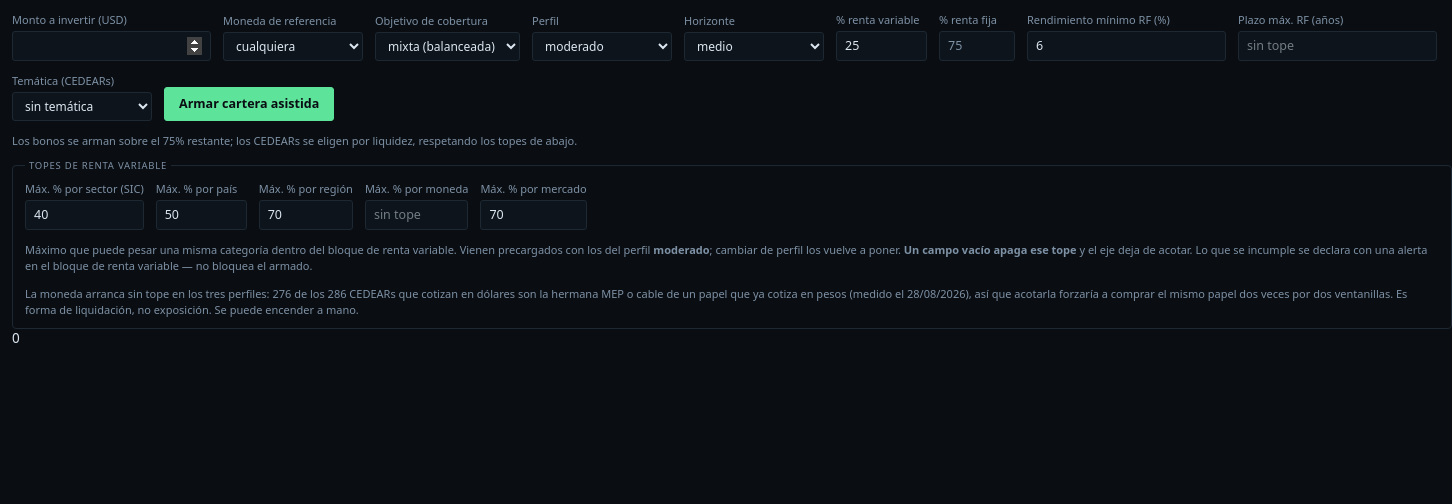
Test: PanelArmadoAsistido › avisa cuando la renta variable pedida no entró — el pedido no se ignora en silencio
Type "100000" into the number field labelled "Monto a invertir (USD)" at (112, 46), box [12,31,211,61]
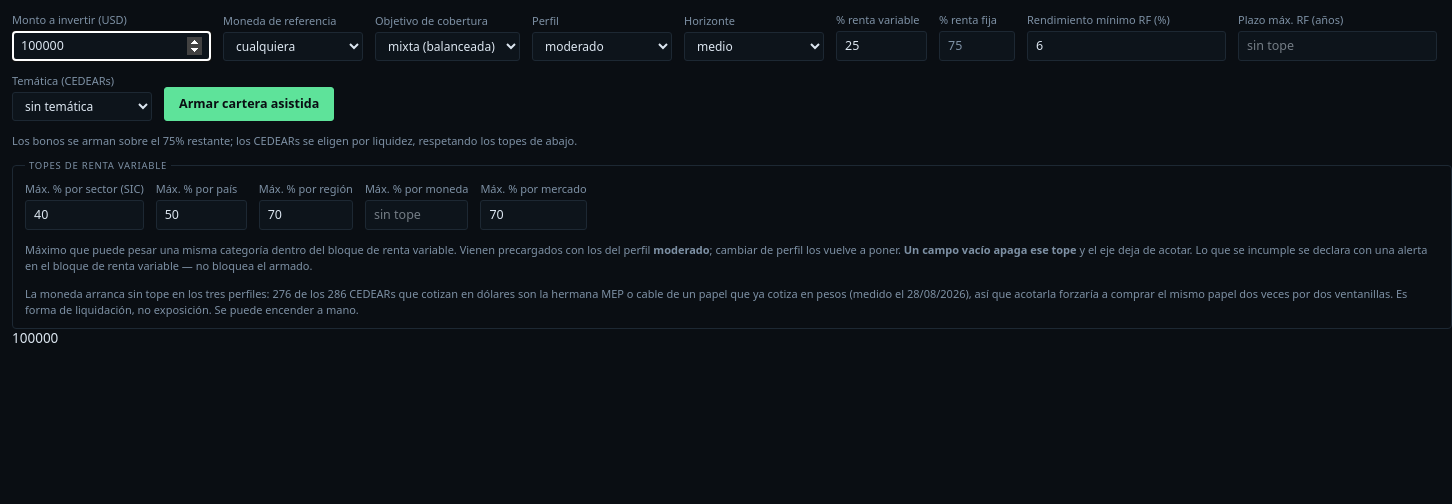
Click the button "Armar cartera asistida" at (249, 104), box [164,87,334,121]
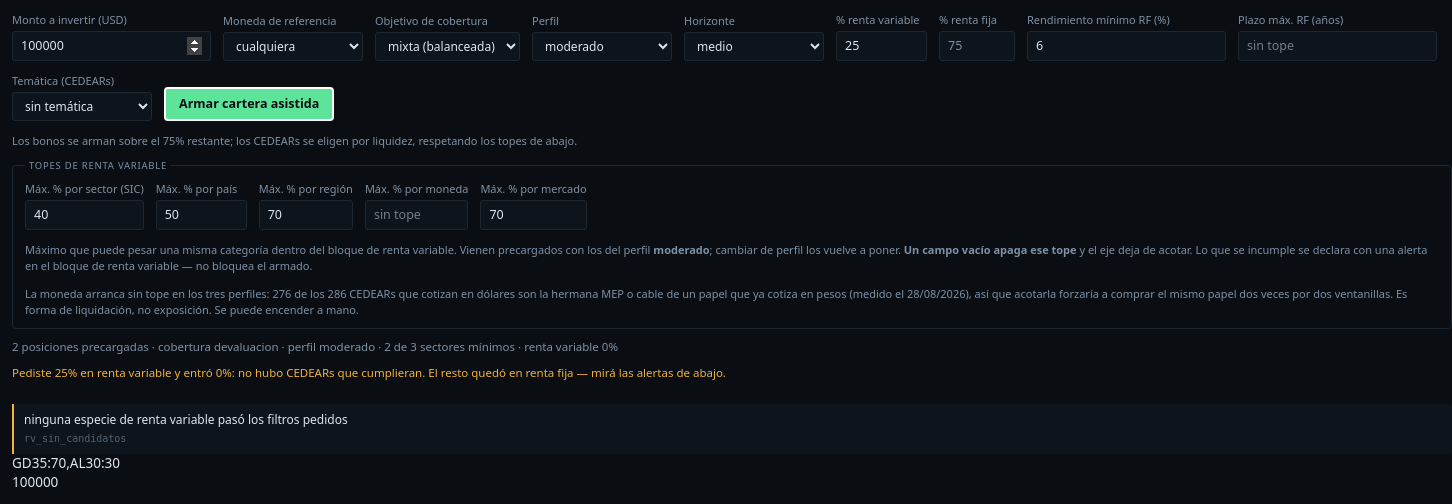
Expected: the text "Pediste 25% en renta variable y entró 0%" is shown, [12,365,726,380]
